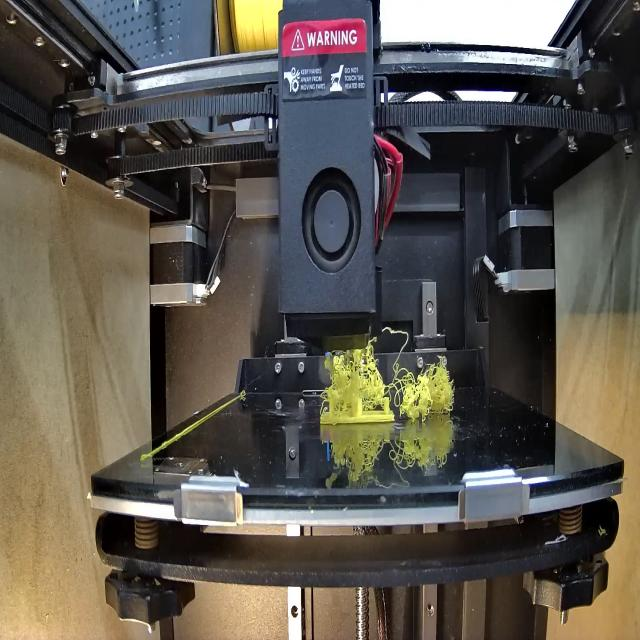spaghetti: (317, 334, 465, 416)
